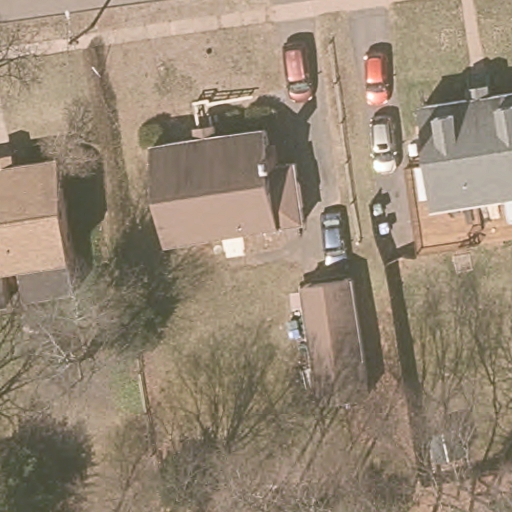DT: (64, 8, 96, 46)
